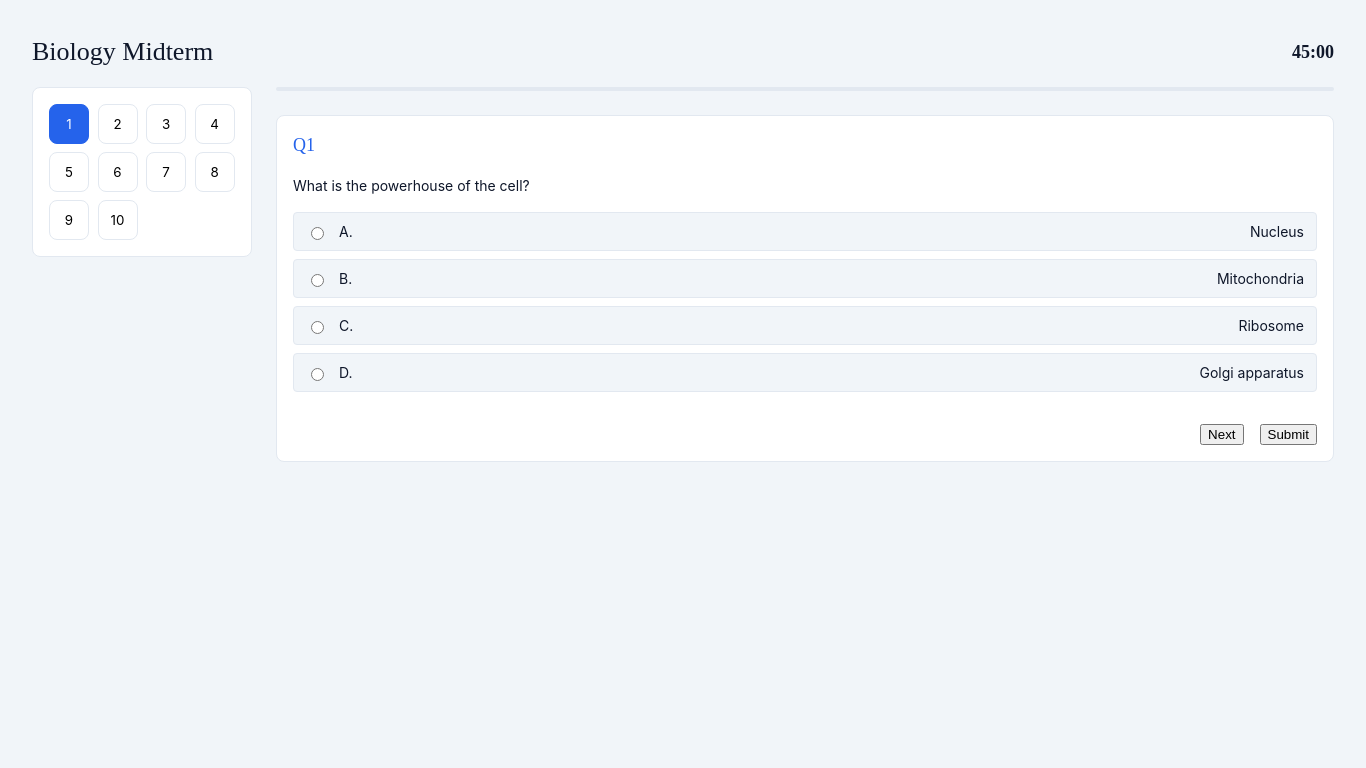
Test: ExamTaking › shows submit dialog with unanswered count
Step 1. Click the button "Submit" → (1288, 434), box 1260,424 -> 1317,445
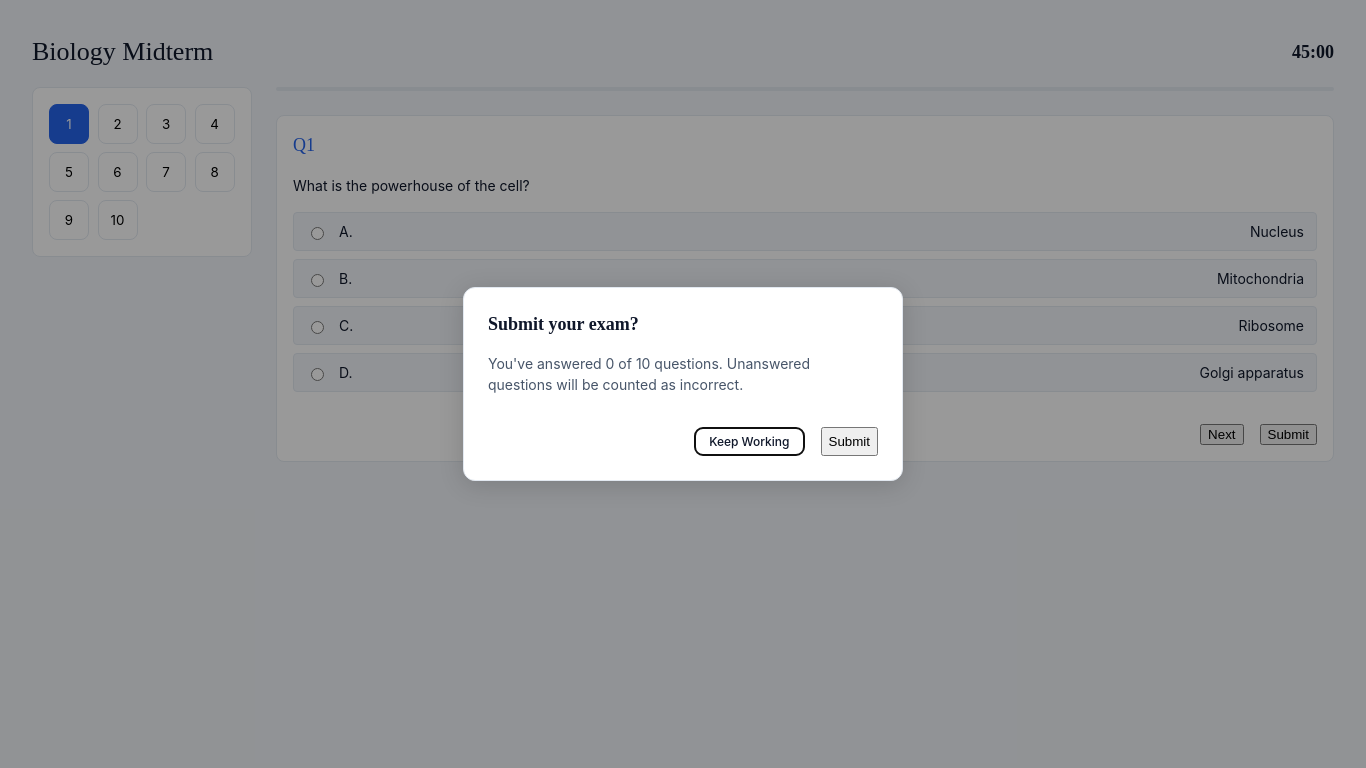
Now the heading "Submit your exam?" is shown, box 488,314 -> 639,334
Now the text "You've answered 0 of 10 questions" is shown, box 488,355 -> 810,393
